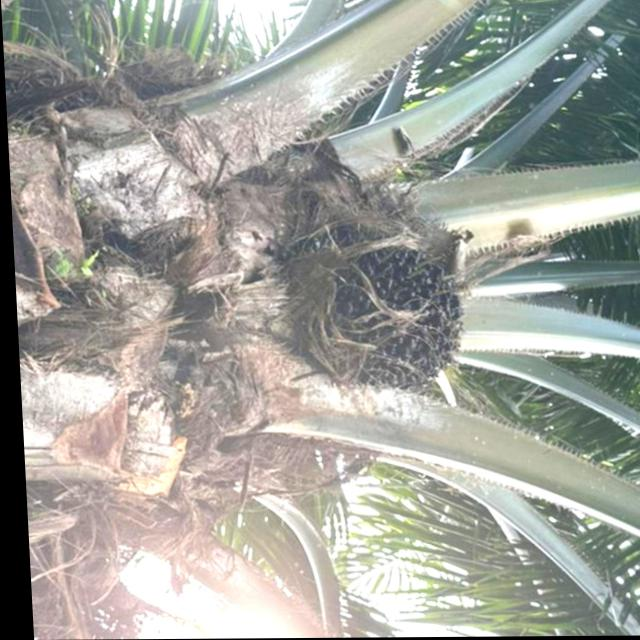unripe: (277, 207, 472, 396)
